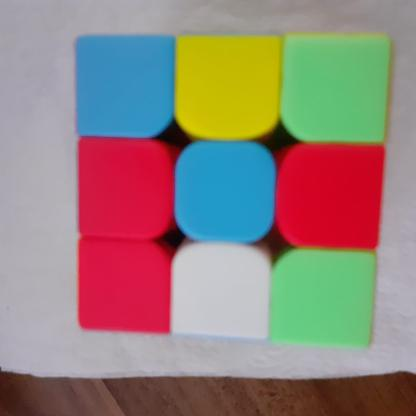cube: (68, 26, 396, 354)
